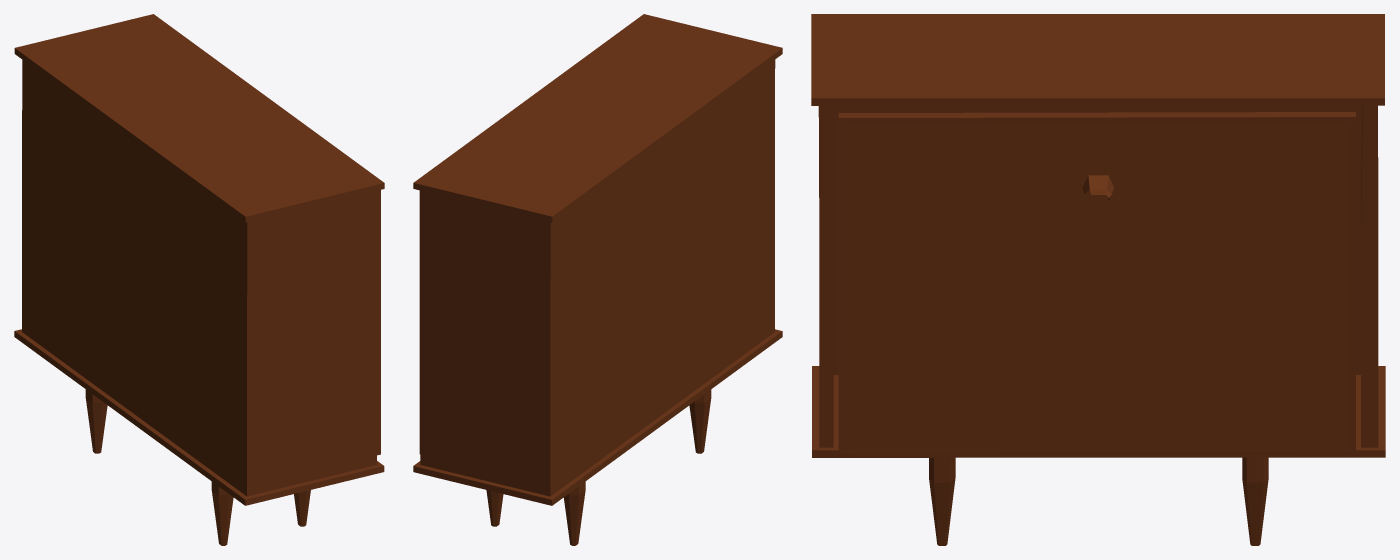
Rendered from MDL_Swing_Shelf_01.fbx.
The picture shows the model from 3 angles, left to right: view 1: azimuth 30°, elevation 25°; view 2: azimuth 150°, elevation 25°; view 3: azimuth 270°, elevation 25°; orthographic projection. The views are drawn at different scales.
Visible parts, largest first — view 1: MDL_Entrance_Swing_Shelf_01, MDL_Entrance_Swing_Shelf_Door_01; view 2: MDL_Entrance_Swing_Shelf_01, MDL_Entrance_Swing_Shelf_Door_01; view 3: MDL_Entrance_Swing_Shelf_Door_01, MDL_Entrance_Swing_Shelf_01.
Boxes of the visible parts, x1,y1,x2,y2 form: MDL_Entrance_Swing_Shelf_01: (14,14,384,545); MDL_Entrance_Swing_Shelf_Door_01: (377,190,380,455); MDL_Entrance_Swing_Shelf_01: (413,14,782,545); MDL_Entrance_Swing_Shelf_Door_01: (419,190,420,453); MDL_Entrance_Swing_Shelf_Door_01: (838,112,1355,452); MDL_Entrance_Swing_Shelf_01: (811,14,1385,545).
Size of the model in its own units: 24.62 by 53.82 by 60.35.
